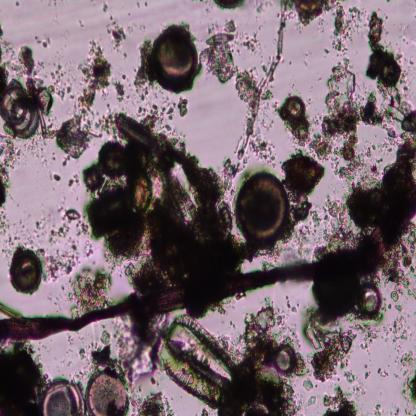Background material: (82, 178, 258, 280), (216, 0, 288, 204), (212, 297, 300, 416), (340, 137, 416, 230), (362, 10, 416, 139), (312, 57, 362, 160), (88, 318, 163, 378), (16, 38, 53, 142), (0, 338, 41, 416), (304, 273, 362, 326), (282, 151, 324, 224), (71, 41, 108, 120), (332, 140, 385, 194), (304, 326, 355, 382), (64, 262, 111, 320), (381, 223, 416, 300), (50, 117, 100, 165), (330, 0, 364, 55), (314, 218, 356, 262), (0, 209, 45, 249), (200, 43, 240, 87), (0, 135, 25, 205), (41, 247, 80, 283), (132, 38, 156, 96), (0, 22, 22, 82), (323, 383, 359, 416), (289, 0, 333, 27), (248, 129, 279, 167), (230, 70, 260, 106), (130, 392, 175, 416), (272, 314, 301, 351), (352, 314, 380, 352), (257, 241, 293, 270), (281, 121, 316, 149), (146, 103, 176, 134), (327, 194, 352, 226), (52, 66, 72, 104), (44, 222, 73, 246), (401, 369, 416, 415), (294, 222, 312, 260), (106, 14, 126, 48), (96, 109, 119, 137), (26, 139, 50, 162), (0, 297, 21, 323), (392, 314, 411, 342), (238, 31, 262, 53), (365, 271, 388, 288), (184, 306, 210, 320), (395, 351, 416, 367), (114, 84, 129, 106), (76, 214, 89, 239), (294, 353, 307, 376), (32, 33, 51, 47), (222, 16, 236, 34), (286, 295, 300, 313), (275, 103, 286, 124), (352, 384, 367, 399), (178, 96, 188, 117), (309, 208, 320, 227), (383, 324, 394, 342), (344, 369, 357, 384), (260, 91, 274, 104), (276, 310, 286, 328), (100, 330, 112, 344), (373, 402, 384, 416), (303, 377, 314, 391), (67, 174, 79, 186), (74, 368, 86, 380), (87, 244, 97, 258), (306, 394, 317, 406), (50, 172, 62, 183), (377, 368, 389, 378), (62, 152, 70, 167), (394, 342, 404, 353), (390, 290, 399, 302), (200, 406, 210, 416), (150, 376, 160, 386), (381, 296, 387, 312), (102, 0, 110, 12), (395, 304, 404, 313), (260, 63, 268, 73), (266, 118, 274, 128), (78, 20, 86, 29), (80, 350, 86, 362), (68, 334, 74, 346), (393, 406, 400, 416), (139, 23, 146, 33), (107, 62, 112, 76), (364, 371, 372, 379), (134, 0, 141, 9), (121, 51, 128, 59), (128, 25, 134, 34), (14, 0, 21, 7), (323, 47, 329, 55), (306, 99, 312, 107), (394, 372, 400, 379), (122, 73, 128, 80), (67, 347, 74, 353), (66, 361, 72, 367), (101, 323, 106, 329), (317, 76, 322, 82), (144, 0, 149, 6), (42, 344, 47, 349), (314, 383, 318, 389), (366, 349, 370, 355), (291, 82, 294, 90), (304, 61, 308, 67), (389, 302, 392, 309), (289, 60, 292, 66), (364, 364, 368, 368), (337, 377, 340, 382), (38, 347, 41, 351), (413, 311, 416, 315), (387, 364, 390, 367), (380, 392, 382, 396), (305, 54, 309, 56), (369, 360, 371, 362)
Cellulose filter fibre: (109, 110, 189, 182)
Cotton: (1, 180, 416, 347)
Diatom: (159, 314, 241, 406), (161, 159, 229, 235), (234, 172, 289, 244), (150, 20, 200, 95), (0, 80, 39, 140), (84, 369, 127, 416), (8, 245, 45, 297), (40, 377, 86, 416), (97, 140, 128, 182), (357, 283, 385, 317), (286, 93, 306, 123), (273, 345, 294, 372), (204, 31, 234, 45), (214, 0, 244, 10), (64, 208, 82, 219)
